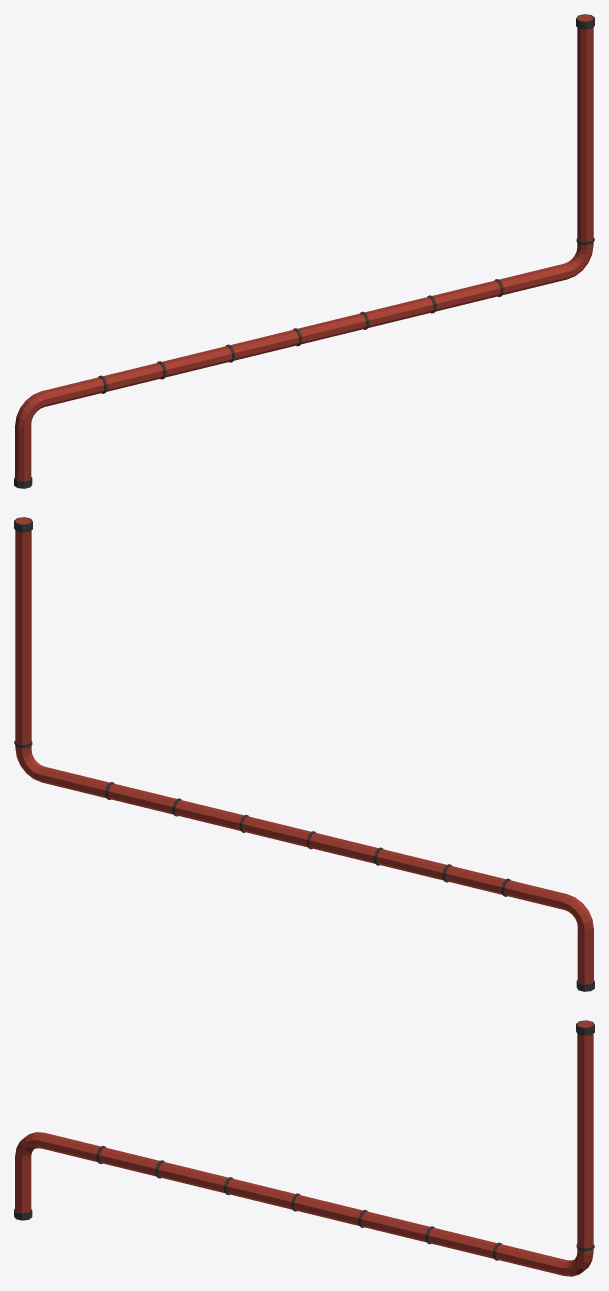
File: Pipe_02.fbx
The picture shows the model from 3 angles, top to bottom: view 1: azimuth 30°, elevation 25°; view 2: azimuth 150°, elevation 25°; view 3: azimuth 330°, elevation 25°; orthographic projection.
Visible parts, largest first — view 1: Pipe_02; view 2: Pipe_02; view 3: Pipe_02.
Boxes of the visible parts, x1,y1,x2,y2 form: Pipe_02: (14,14,594,488); Pipe_02: (14,517,594,991); Pipe_02: (14,1020,594,1276).
Size of the model in its own units: 697 by 380 by 18.47.
